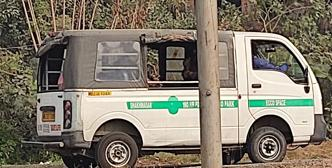Auto: (35, 27, 330, 163)
